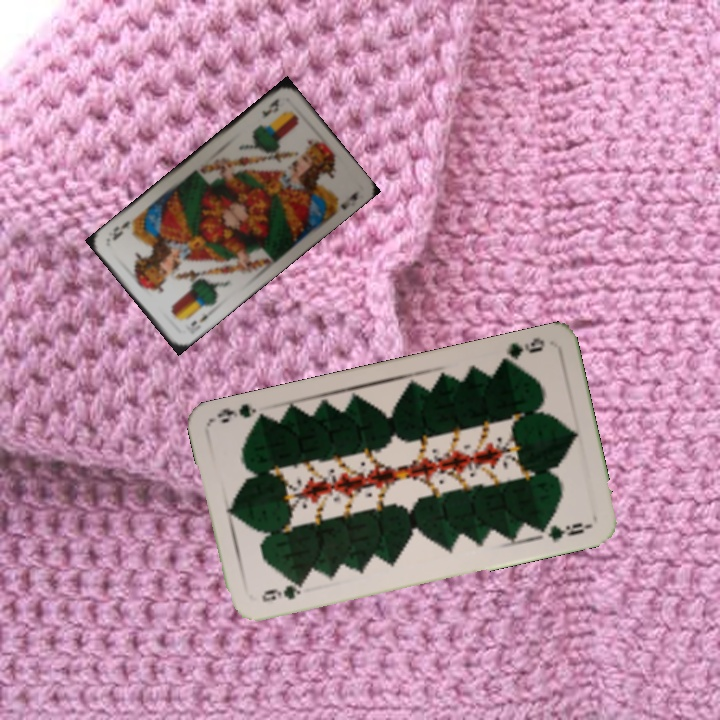EK: (258, 94, 282, 121), (186, 307, 215, 328)
G9: (495, 333, 548, 369), (257, 577, 307, 605)
